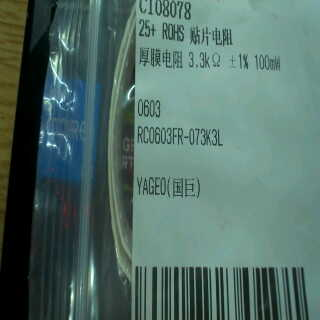3.3kO: (183, 46, 224, 73)
